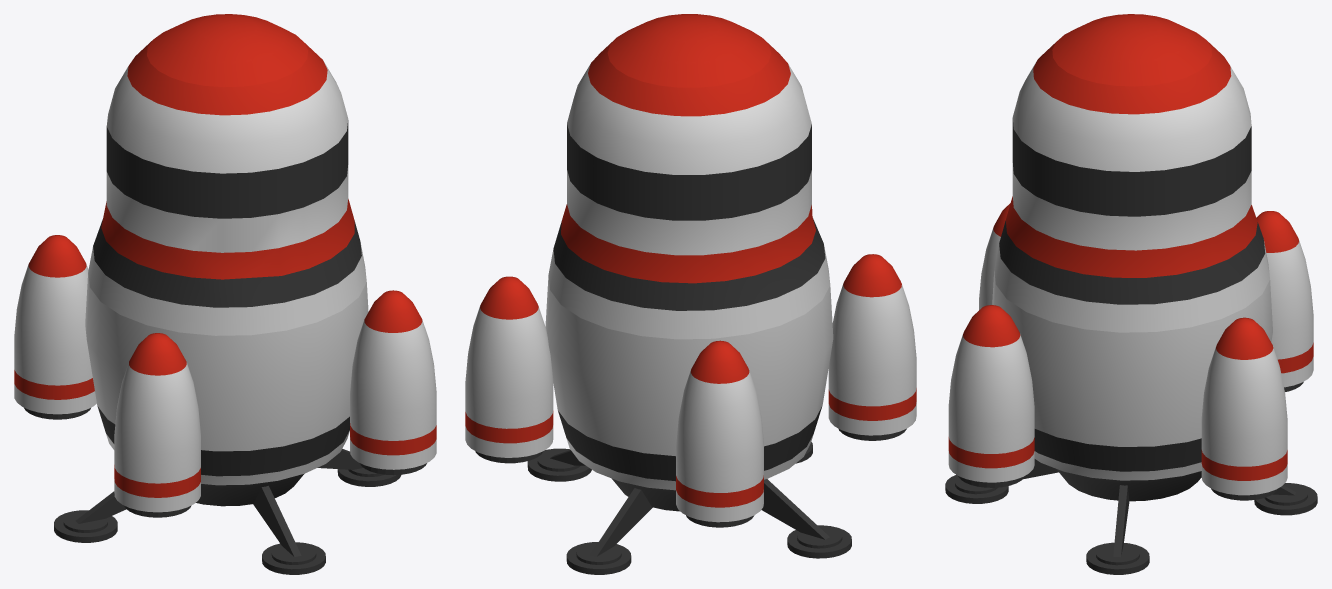
Rendered from M_Rocket.fbx.
3 renders of one model, left to right at view 1: azimuth 30°, elevation 25°; view 2: azimuth 150°, elevation 25°; view 3: azimuth 270°, elevation 25°, orthographic. The views are drawn at different scales.
Visible parts, largest first — view 1: M_Rocket; view 2: M_Rocket; view 3: M_Rocket.
Boxes of the visible parts, bbox=[...] form: M_Rocket: bbox=[14, 14, 436, 574]; M_Rocket: bbox=[465, 14, 916, 574]; M_Rocket: bbox=[945, 14, 1317, 574].
Size of the model in its own units: 42.22 by 58.96 by 42.21.
